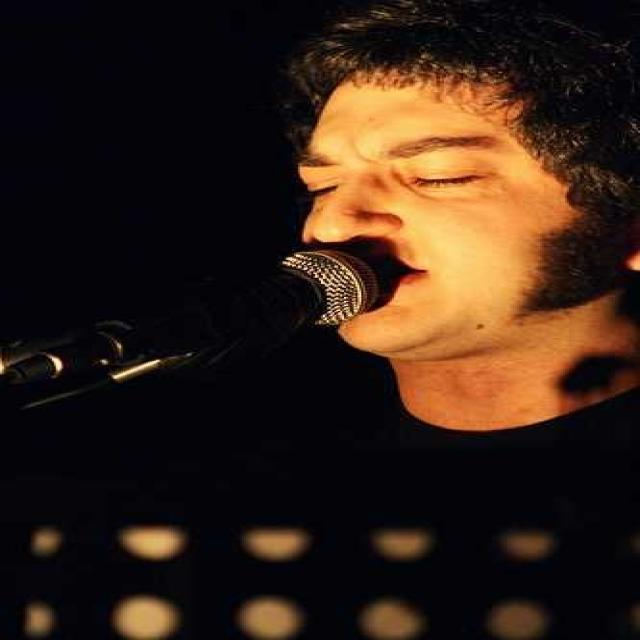microphone: (7, 247, 383, 405)
